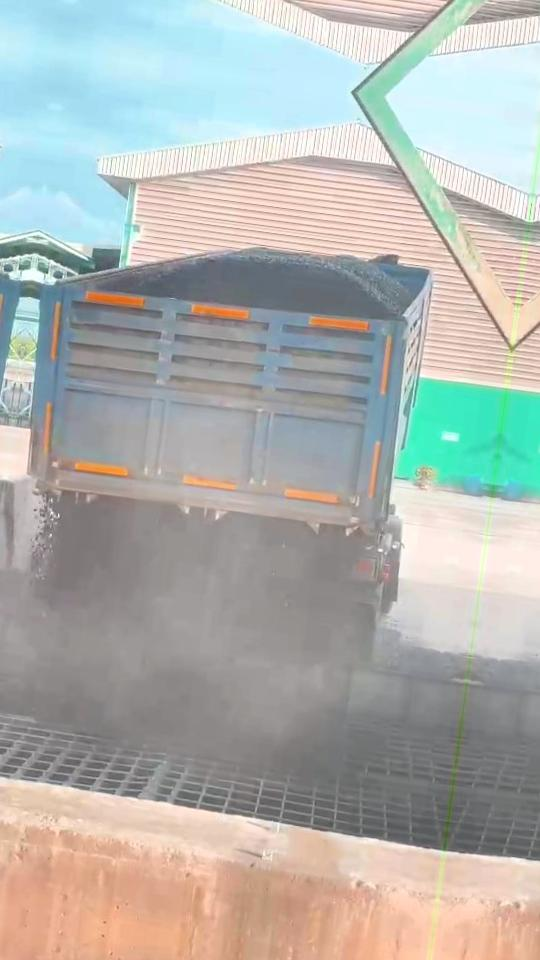gravel: (30, 494, 375, 743), (88, 248, 413, 318), (375, 627, 468, 682)
